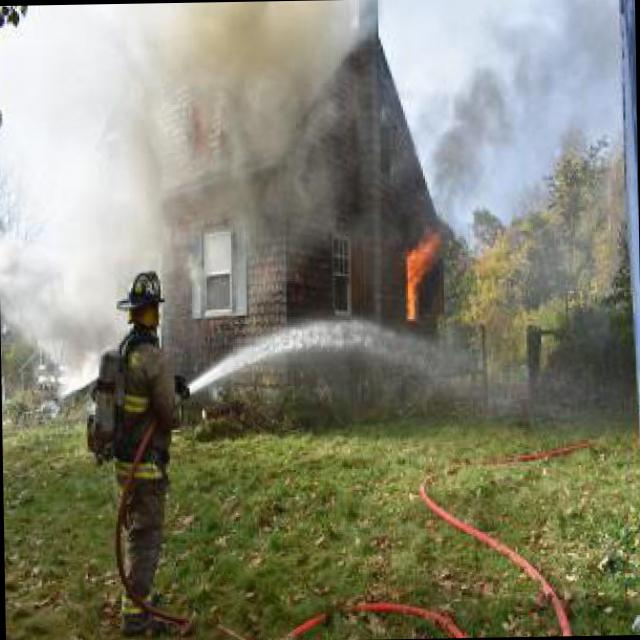fire: (398, 232, 446, 321)
smoke: (181, 0, 371, 241), (425, 0, 618, 217)
